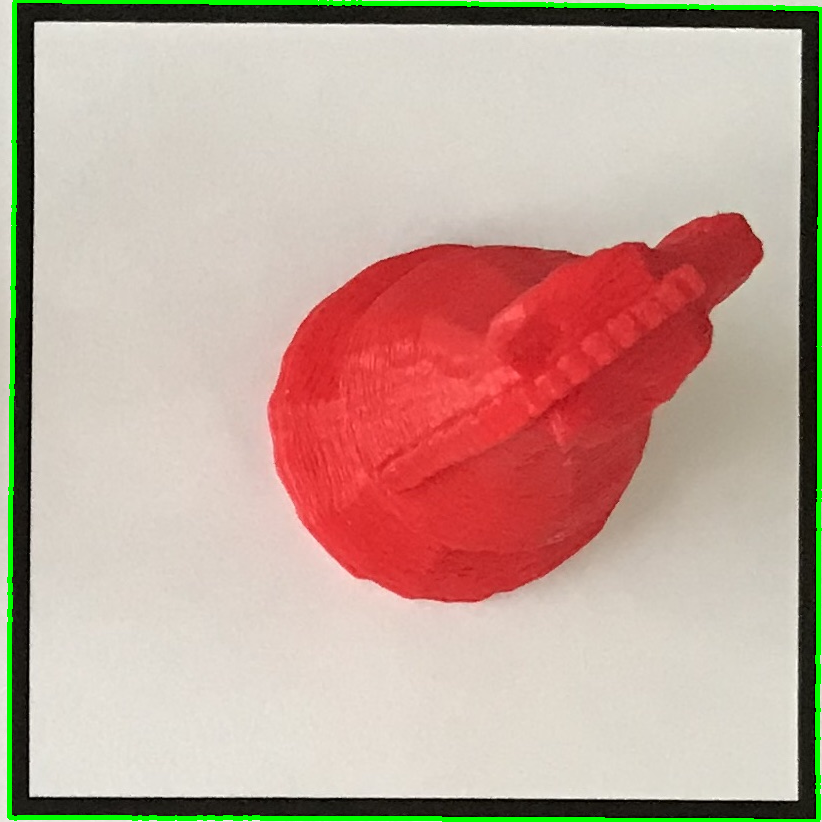Red Knight: (260, 206, 763, 614)
